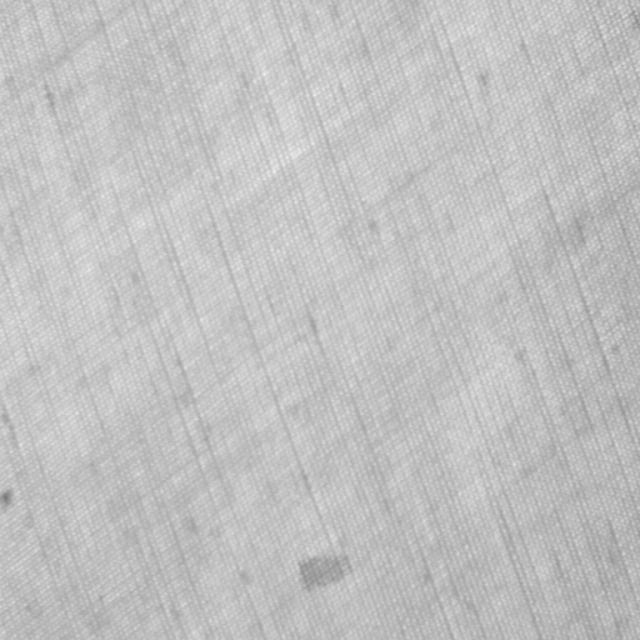oil spot: (296, 551, 353, 591)
